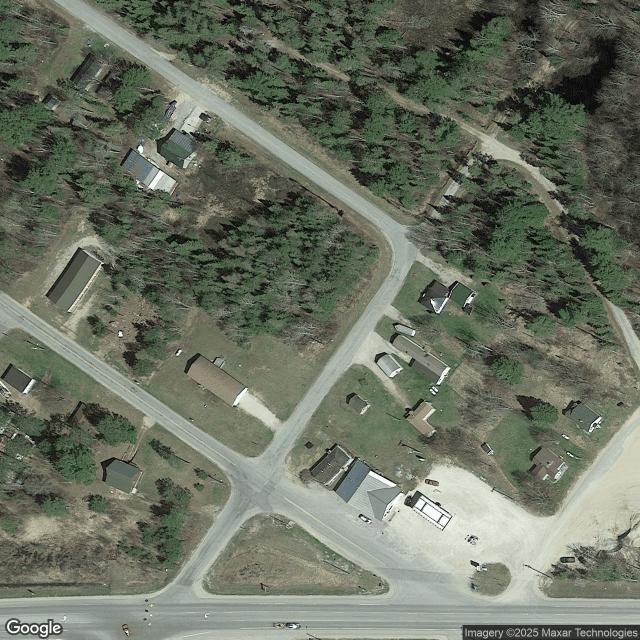Propane: (428, 388, 437, 396), (561, 433, 570, 441), (431, 385, 439, 393), (566, 451, 575, 458), (175, 349, 182, 357)
